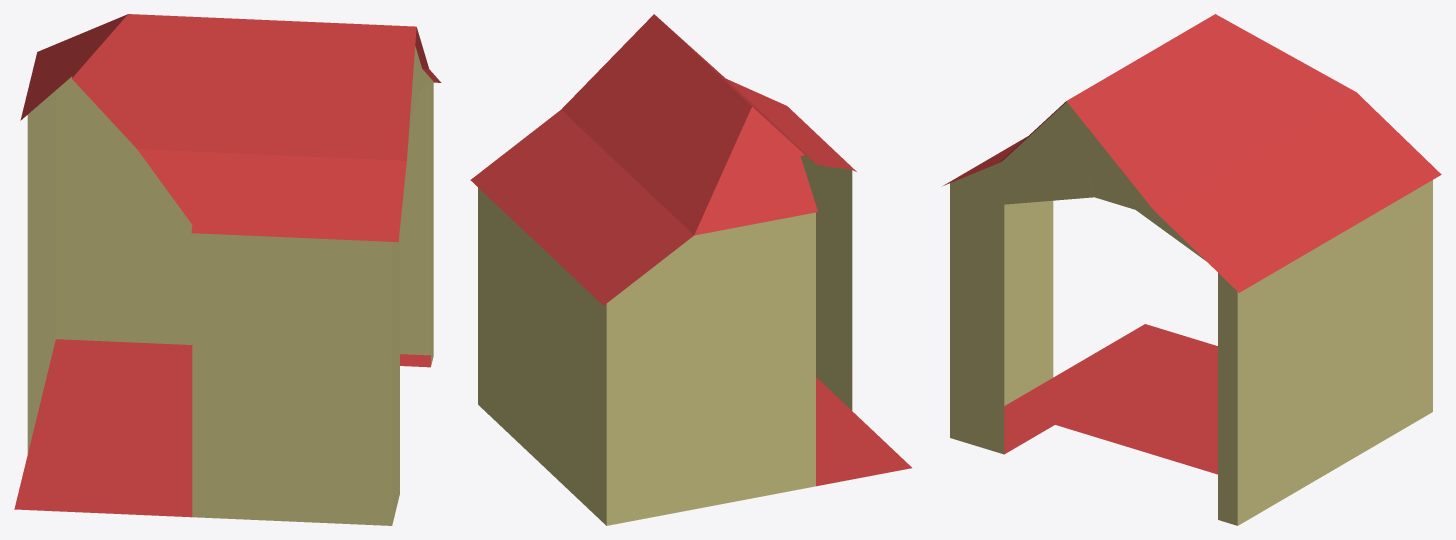
3 renders of one model, left to right at view 1: azimuth 30°, elevation 25°; view 2: azimuth 150°, elevation 25°; view 3: azimuth 270°, elevation 25°, orthographic. The views are drawn at different scales.
Bounding box in the file's own units: 19.47 × 20.02 × 16.58.
